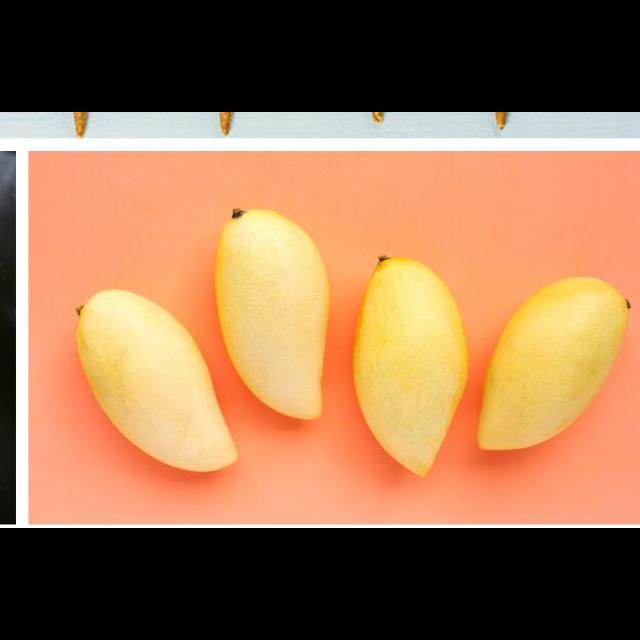mango: (73, 289, 239, 475), (478, 275, 627, 453), (351, 257, 469, 474), (217, 209, 328, 421)
